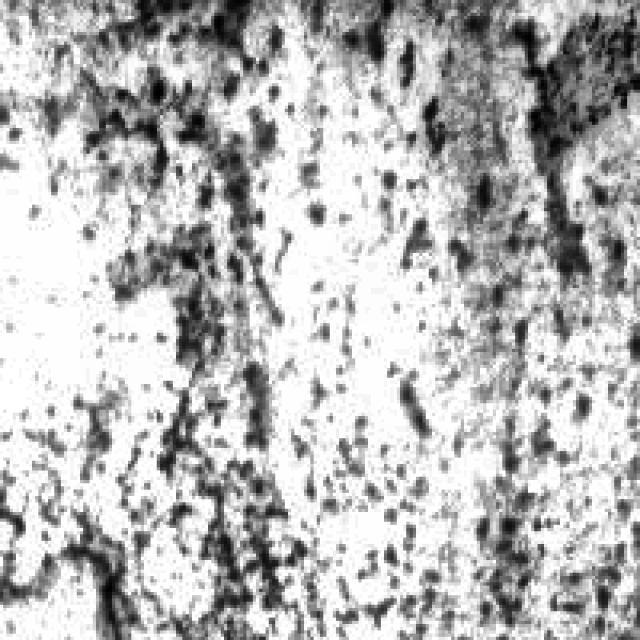Rolled_in_Scale: (12, 19, 628, 634)
